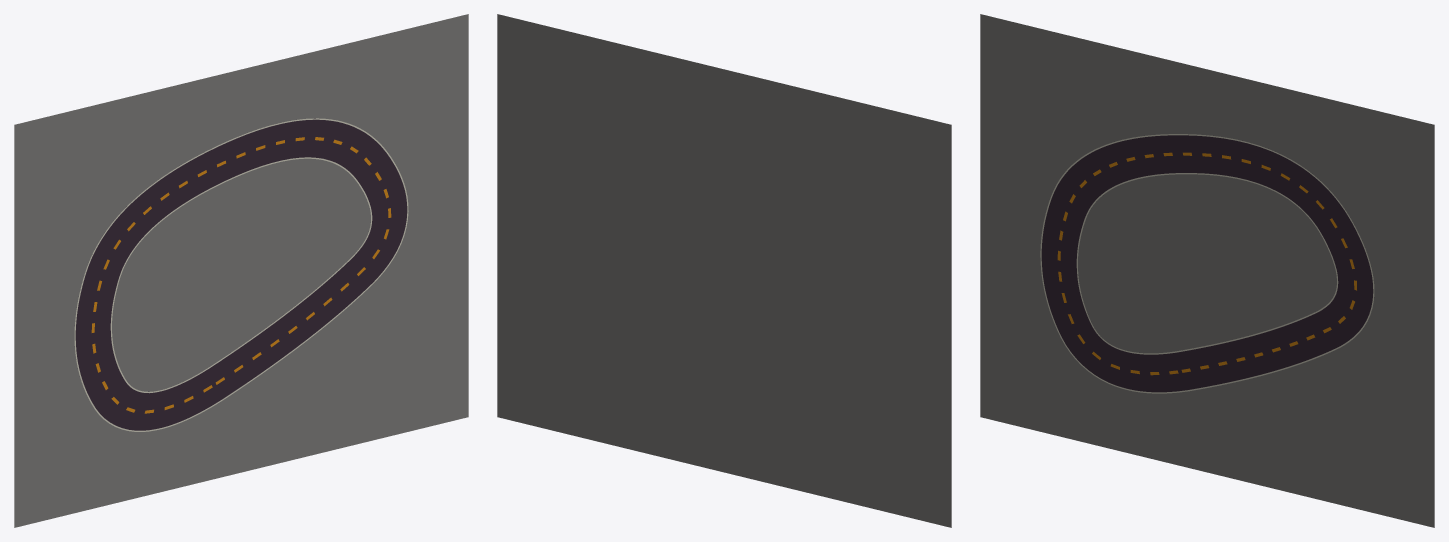
Rendered from track.obj.
3 renders of one model, left to right at view 1: azimuth 30°, elevation 25°; view 2: azimuth 150°, elevation 25°; view 3: azimuth 330°, elevation 25°, orthographic.
Size of the model in its own units: 14.9 by 12.64 by 0.0025.
4 materials, 4 textured.
